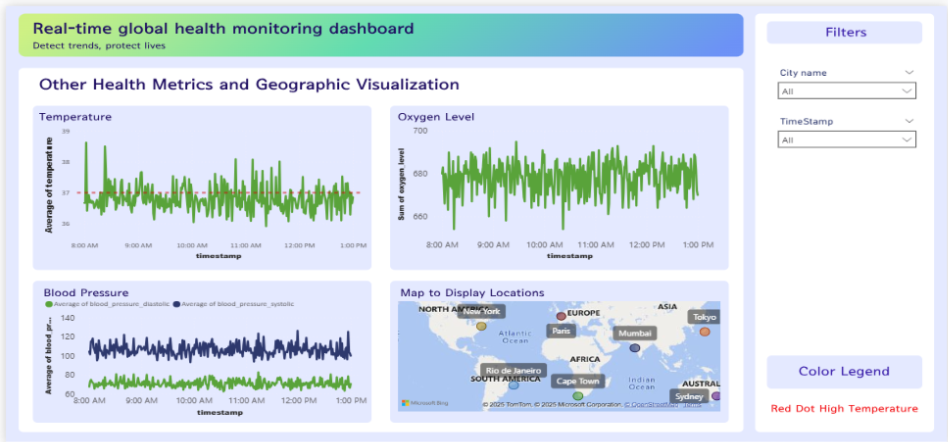

The page's visual inventory and layout, read from the dashboard file:
{"tool":"powerbi","page":{"name":"Other Health Metrics and Geographic Visualization","canvas":[1280,720],"ordinal":2},"visuals":[{"type":"slicer","fields":{"Values":["health_data_0c2c5be373be1b16807fb15c3b25cb96.city"]},"box":[1040,96,208,64],"z":0},{"type":"slicer","fields":{"Values":["health_data_0c2c5be373be1b16807fb15c3b25cb96.timestamp"]},"box":[1040,176,208,80],"z":1000},{"type":"lineChart","fields":{"Y":["health_data_0c2c5be373be1b16807fb15c3b25cb96.temperature"],"Category":["health_data_0c2c5be373be1b16807fb15c3b25cb96.timestamp"]},"box":[48,192,448,232],"z":2000},{"type":"lineChart","fields":{"Category":["health_data_0c2c5be373be1b16807fb15c3b25cb96.timestamp"],"Y":["health_data_0c2c5be373be1b16807fb15c3b25cb96.oxygen_level"]},"box":[528,192,440,232],"z":3000},{"type":"lineChart","fields":{"Category":["health_data_0c2c5be373be1b16807fb15c3b25cb96.timestamp"],"Y":["health_data_0c2c5be373be1b16807fb15c3b25cb96.blood_pressure_diastolic","health_data_0c2c5be373be1b16807fb15c3b25cb96.blood_pressure_systolic"]},"box":[48,472,448,208],"z":4000},{"type":"map","fields":{"Category":["health_data_0c2c5be373be1b16807fb15c3b25cb96.city"],"Y":["health_data_0c2c5be373be1b16807fb15c3b25cb96.latitude"],"X":["health_data_0c2c5be373be1b16807fb15c3b25cb96.longitude"],"Size":["health_data_0c2c5be373be1b16807fb15c3b25cb96.heart_rate"],"Series":["health_data_0c2c5be373be1b16807fb15c3b25cb96.city"]},"box":[528,480,448,192],"z":5000}]}

Visuals, with their boxes on the page's 1280x720 design canvas (x1, y1, x2, y2). These are canvas units, not pixel positions in the 948x442 screenshot, which may show the page scaled, cropped or inside an application window:
slicer - health_data_0c2c5be373be1b16807fb15c3b25cb96.city: (1040, 96, 1248, 160)
slicer - health_data_0c2c5be373be1b16807fb15c3b25cb96.timestamp: (1040, 176, 1248, 256)
lineChart - health_data_0c2c5be373be1b16807fb15c3b25cb96.temperature x health_data_0c2c5be373be1b16807fb15c3b25cb96.timestamp: (48, 192, 496, 424)
lineChart - health_data_0c2c5be373be1b16807fb15c3b25cb96.timestamp x health_data_0c2c5be373be1b16807fb15c3b25cb96.oxygen_level: (528, 192, 968, 424)
lineChart - health_data_0c2c5be373be1b16807fb15c3b25cb96.timestamp x health_data_0c2c5be373be1b16807fb15c3b25cb96.blood_pressure_diastolic: (48, 472, 496, 680)
map - health_data_0c2c5be373be1b16807fb15c3b25cb96.city x health_data_0c2c5be373be1b16807fb15c3b25cb96.latitude: (528, 480, 976, 672)
